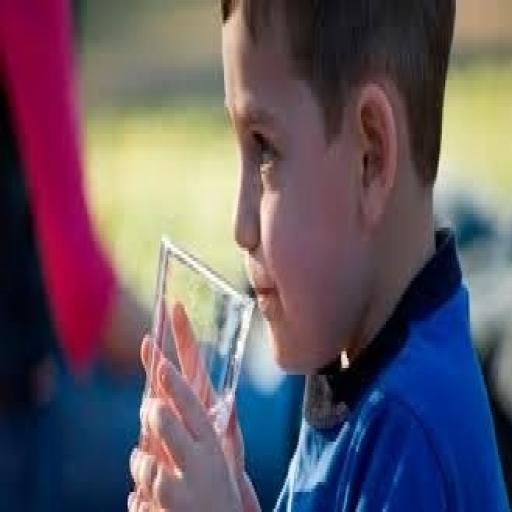drinking: (104, 102, 385, 509)
